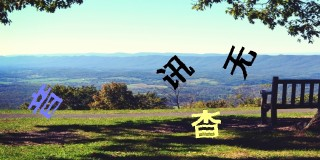无: (222, 44, 258, 81)
杳: (190, 109, 220, 139)
讯: (157, 55, 195, 90)
音: (28, 85, 63, 118)
